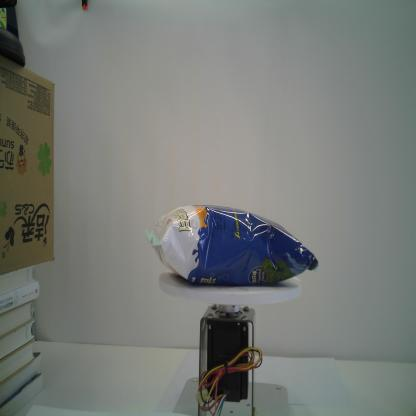Puffed Food: (143, 204, 320, 288)
